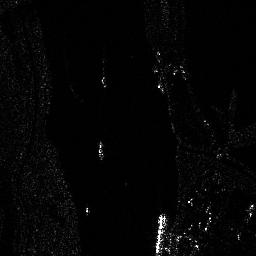ship: (152, 212, 166, 256)
